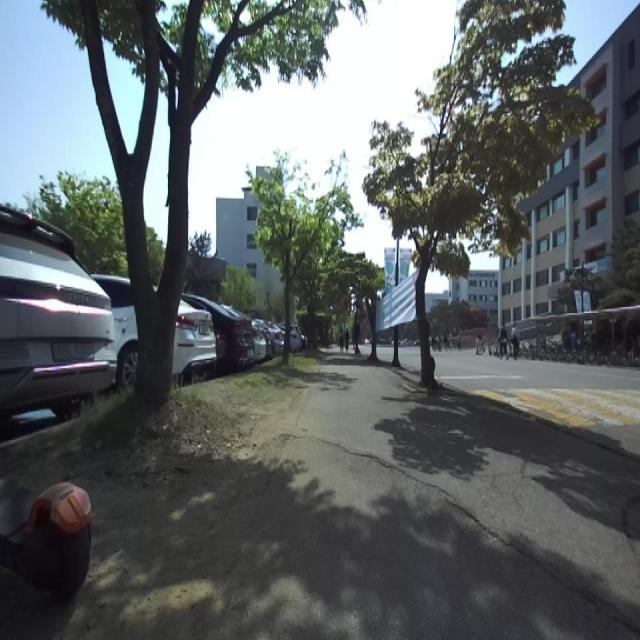sidewalk: (183, 355, 640, 638)
